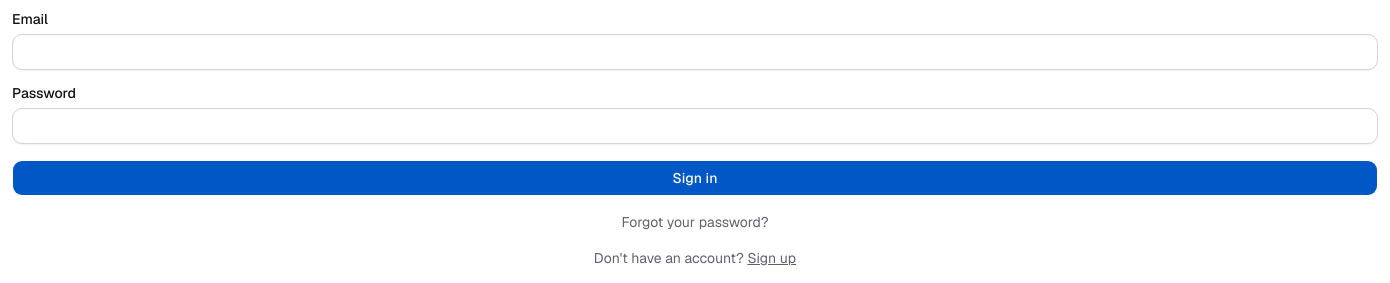
Test case: SignInForm › shows the code step when the account still needs to confirm its email
Type "user@x.com" into the field labelled "Email" at [695, 52], box 12,34 -> 1378,70
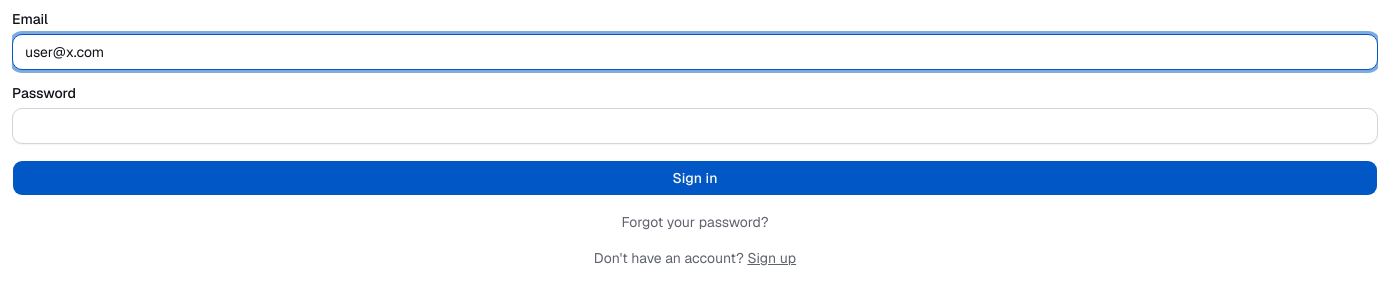
Type "supersecret123" into the password field labelled "Password" at [695, 126], box 12,108 -> 1378,144
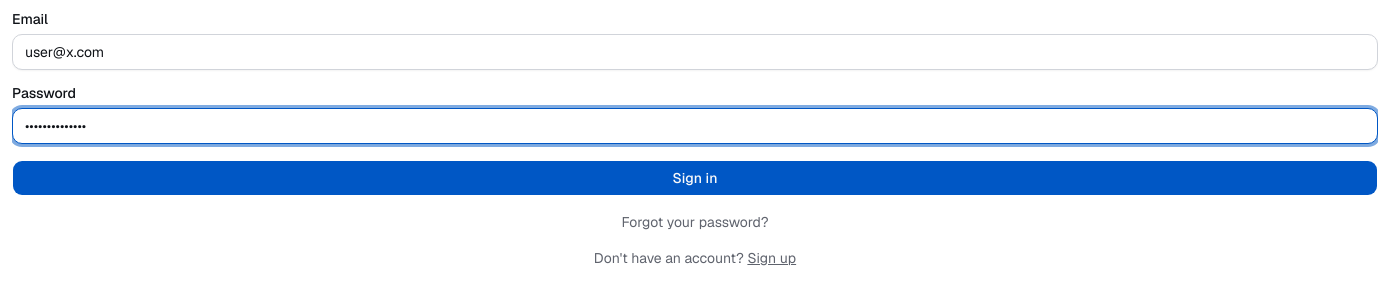
Click the button "Sign in" at [695, 178], box 12,160 -> 1378,196
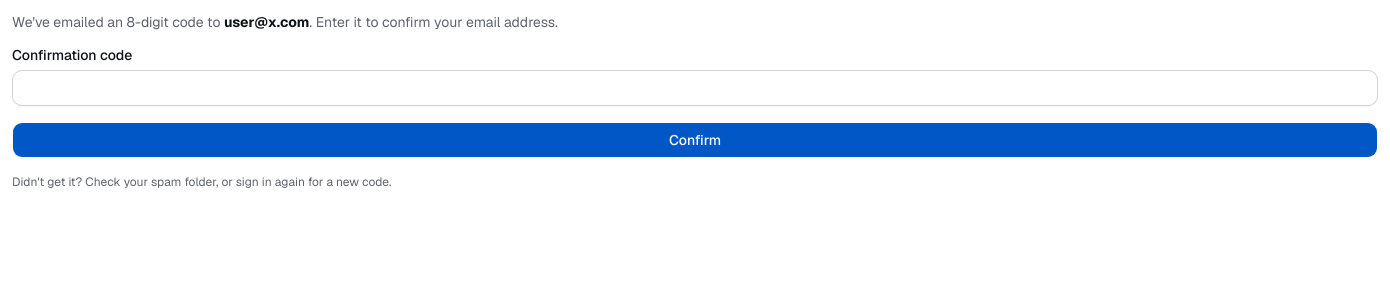
Expected: the field labelled "Confirmation code" is shown, 12,70 -> 1378,106
